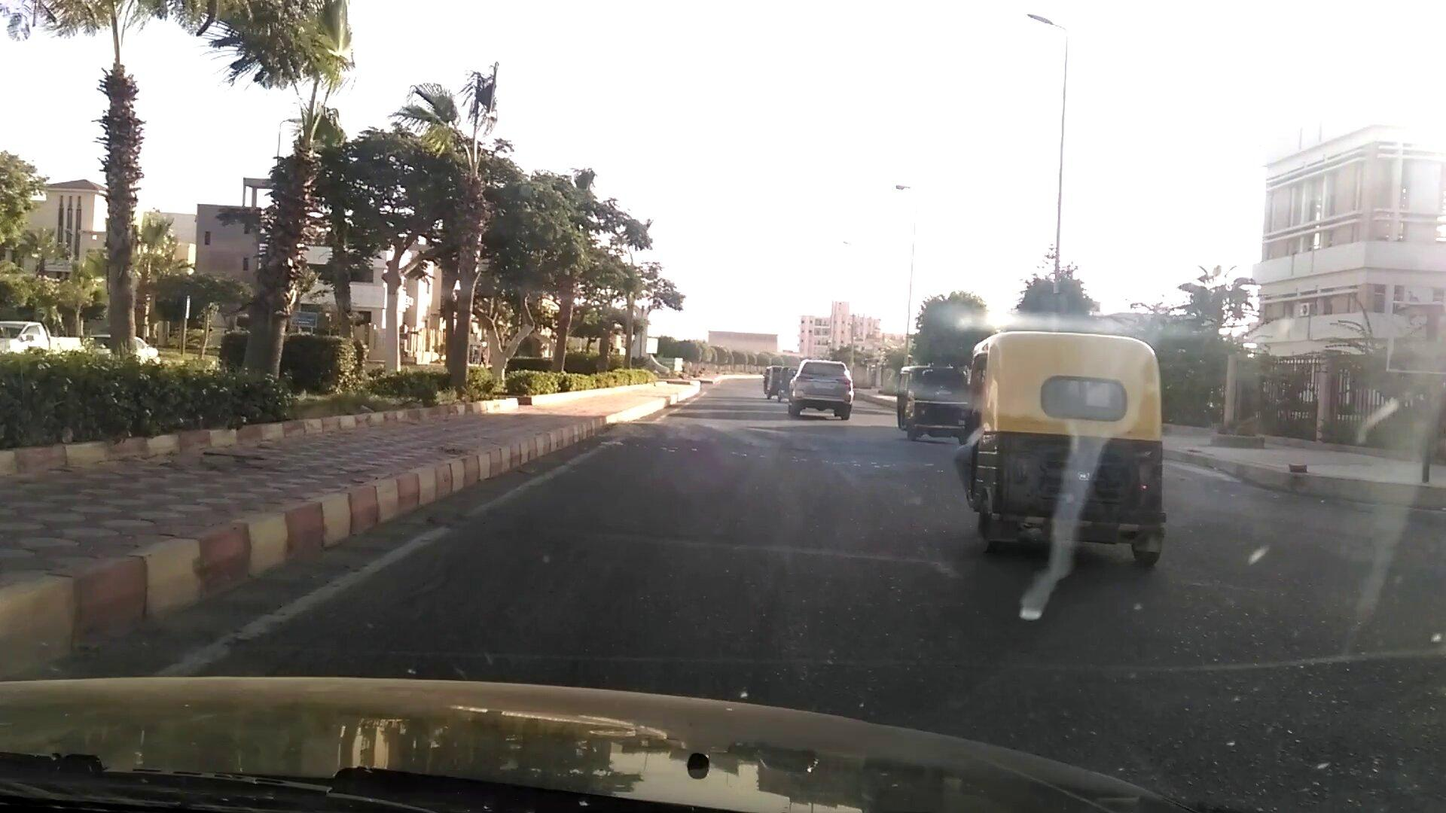Bump: (589, 420, 960, 464)
